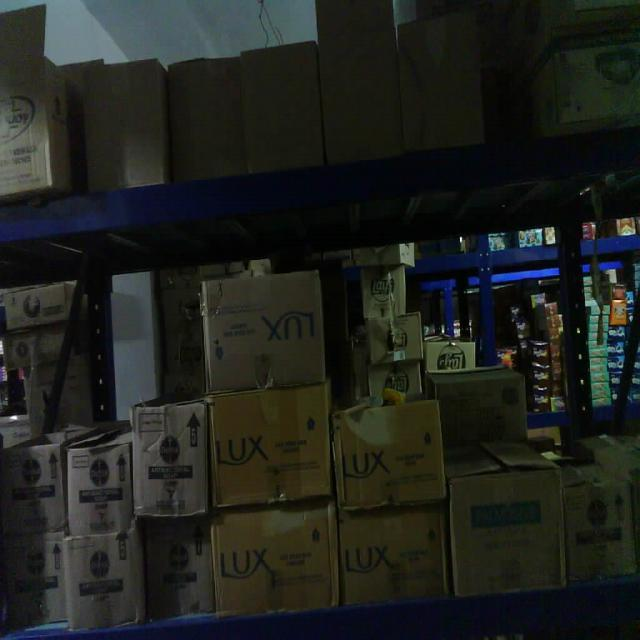cardboxes: (206, 389, 333, 506), (202, 272, 328, 389), (448, 470, 566, 590), (210, 510, 338, 609), (331, 404, 446, 508), (398, 17, 487, 149), (332, 508, 448, 602), (241, 50, 325, 172), (83, 63, 164, 188), (168, 64, 249, 180), (128, 403, 208, 519), (562, 481, 634, 581), (141, 520, 212, 620), (65, 535, 140, 628), (2, 448, 68, 538), (64, 448, 134, 532), (4, 540, 65, 624)
